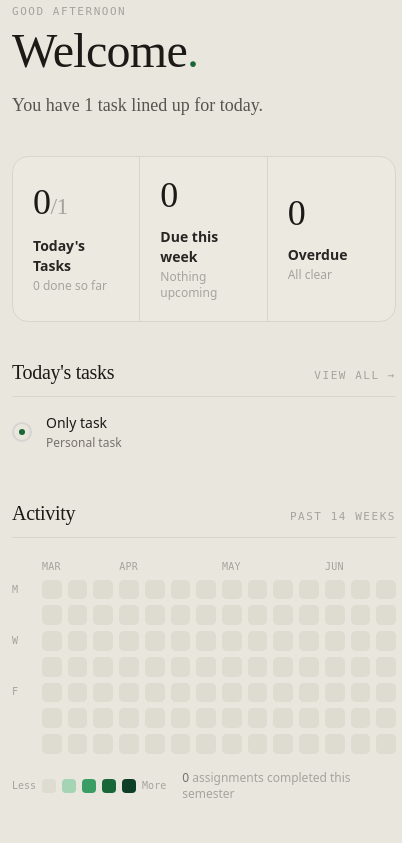
Scenario: DashboardPage today's tasks › toggling a task updates the completed ratio in the stat card
Expected: the element with class "display" reads "0/1", x1=33 y1=182 x2=68 y2=222
The task row carries the click handler that toggles completion.
Click the element with class "cursor-pointer".
click(67, 432)  # box x1=12 y1=413 x2=122 y2=451
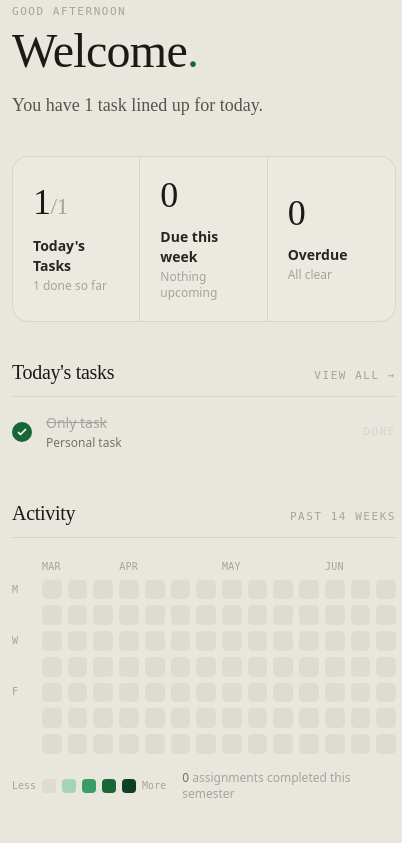
Result: the element with class "display" reads "1/1" at x1=33 y1=182 x2=68 y2=222
